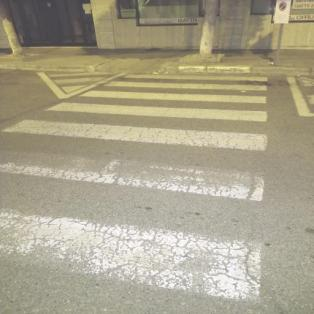Paso de Cebra: (0, 100, 272, 154), (100, 70, 272, 94)
